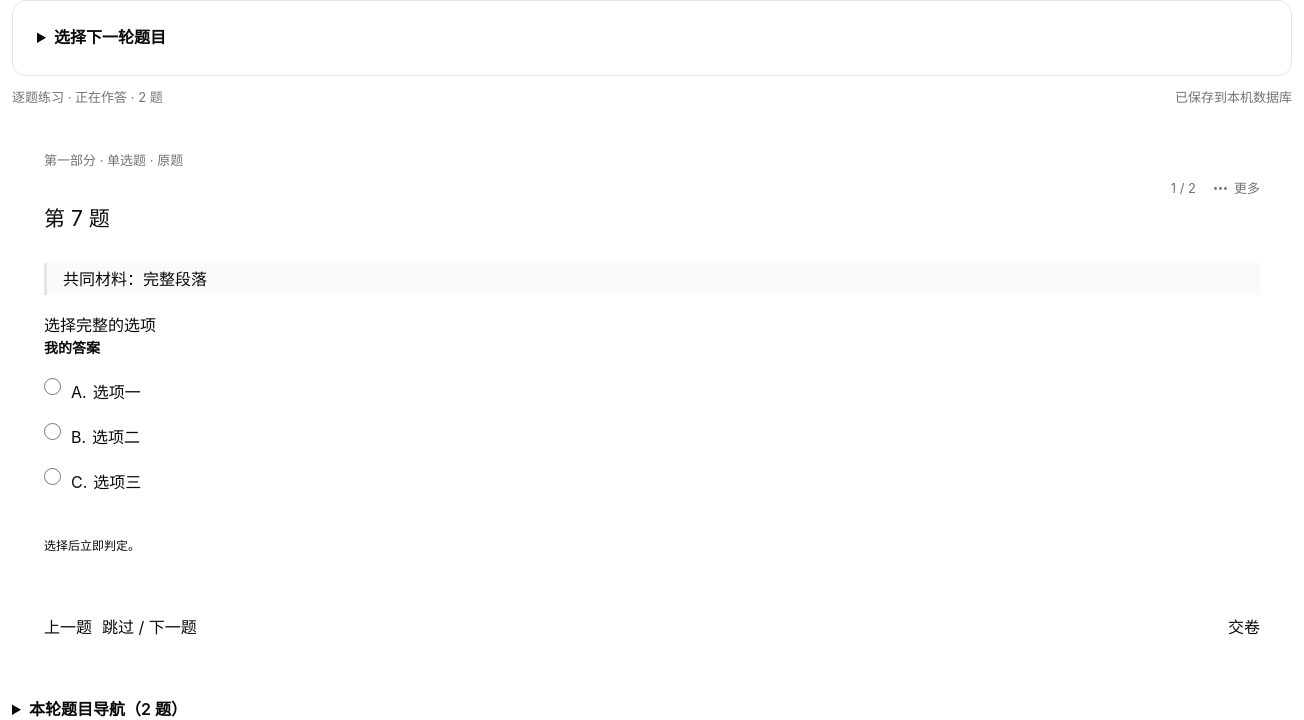
Test: grades single immediately after a selection and removes the per-question submit action
Click the radio button labelled "A. 选项一" at (52, 387), box [44,378,61,396]
Wait 400 ms
(page scrolled)
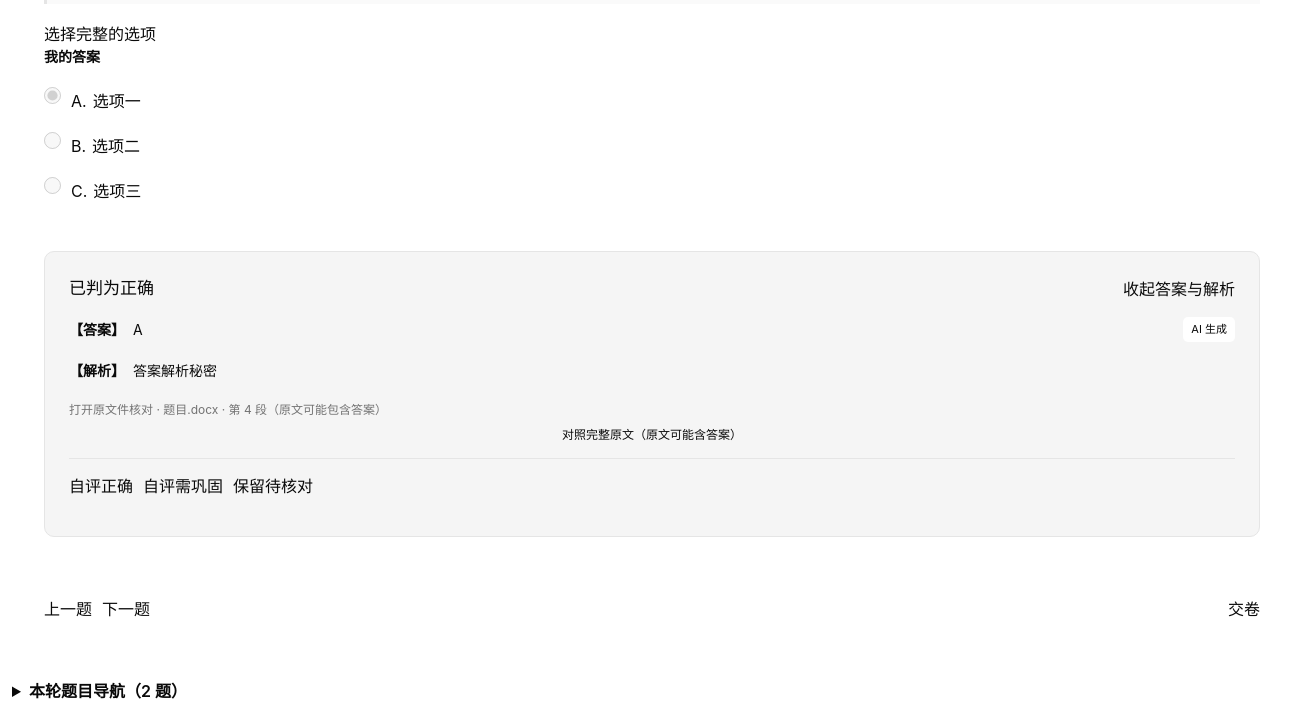
expect the element that starts with "已判为正确" is shown: met, box [69,278,154,298]
